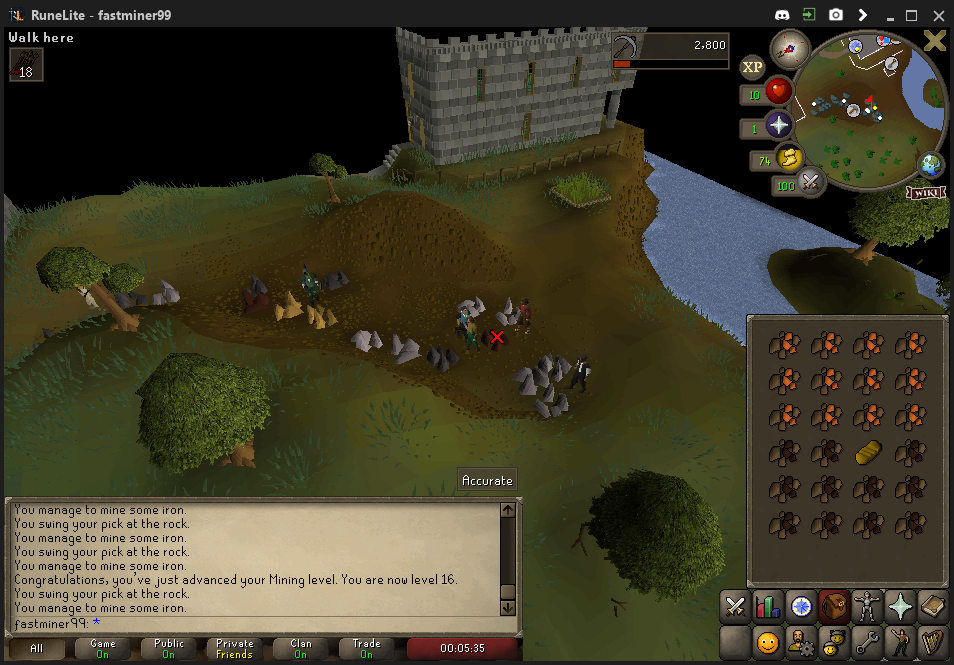depleted: (319, 264, 352, 292), (427, 345, 461, 372), (114, 286, 149, 309), (241, 273, 271, 298)
ore: (241, 290, 279, 310), (479, 327, 509, 352)
